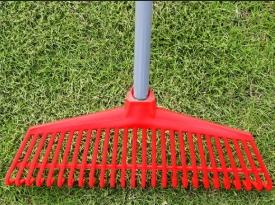RATEAU: (6, 1, 275, 205)
